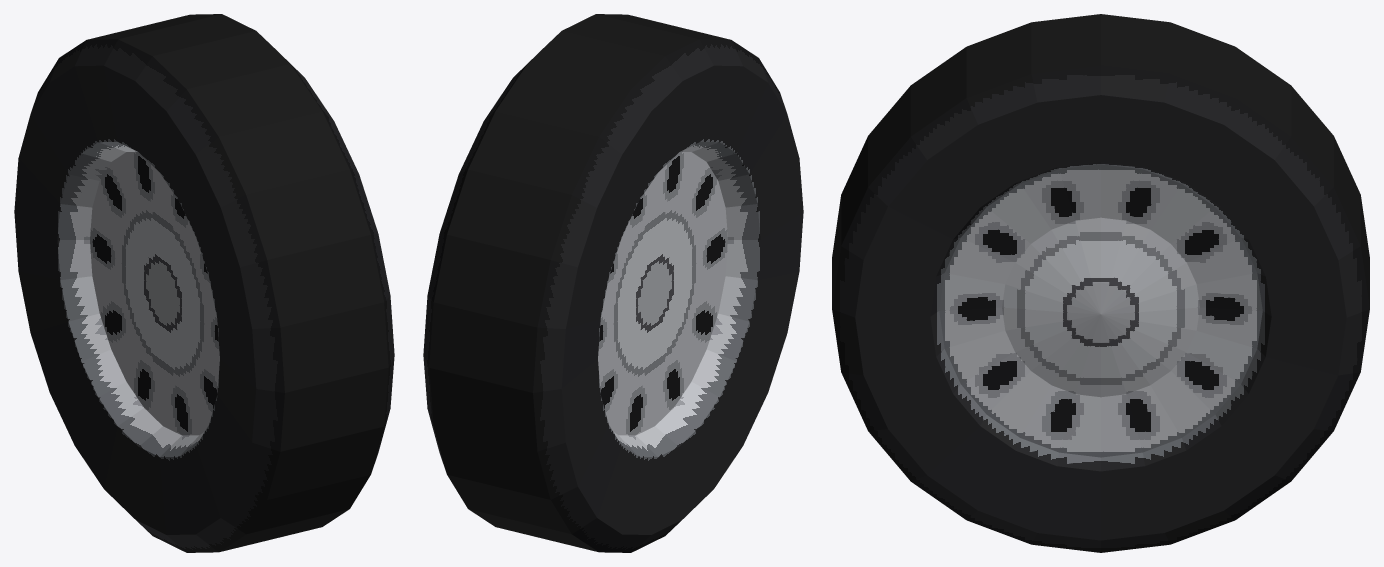
Rendered from wheel_pop_trim_r.glb.
3 views of the same model, side by side, from view 1: azimuth 30°, elevation 25°; view 2: azimuth 150°, elevation 25°; view 3: azimuth 270°, elevation 25° (orthographic).
Visible parts, largest first — view 1: Wheel; view 2: Wheel; view 3: Wheel.
Boxes of the visible parts, <box> form: Wheel: <box>14,14,394,552</box>; Wheel: <box>423,14,803,552</box>; Wheel: <box>832,14,1369,552</box>.
Bounding box in the file's own units: 0.175 × 0.58 × 0.58.
2 materials, 1 textured.
